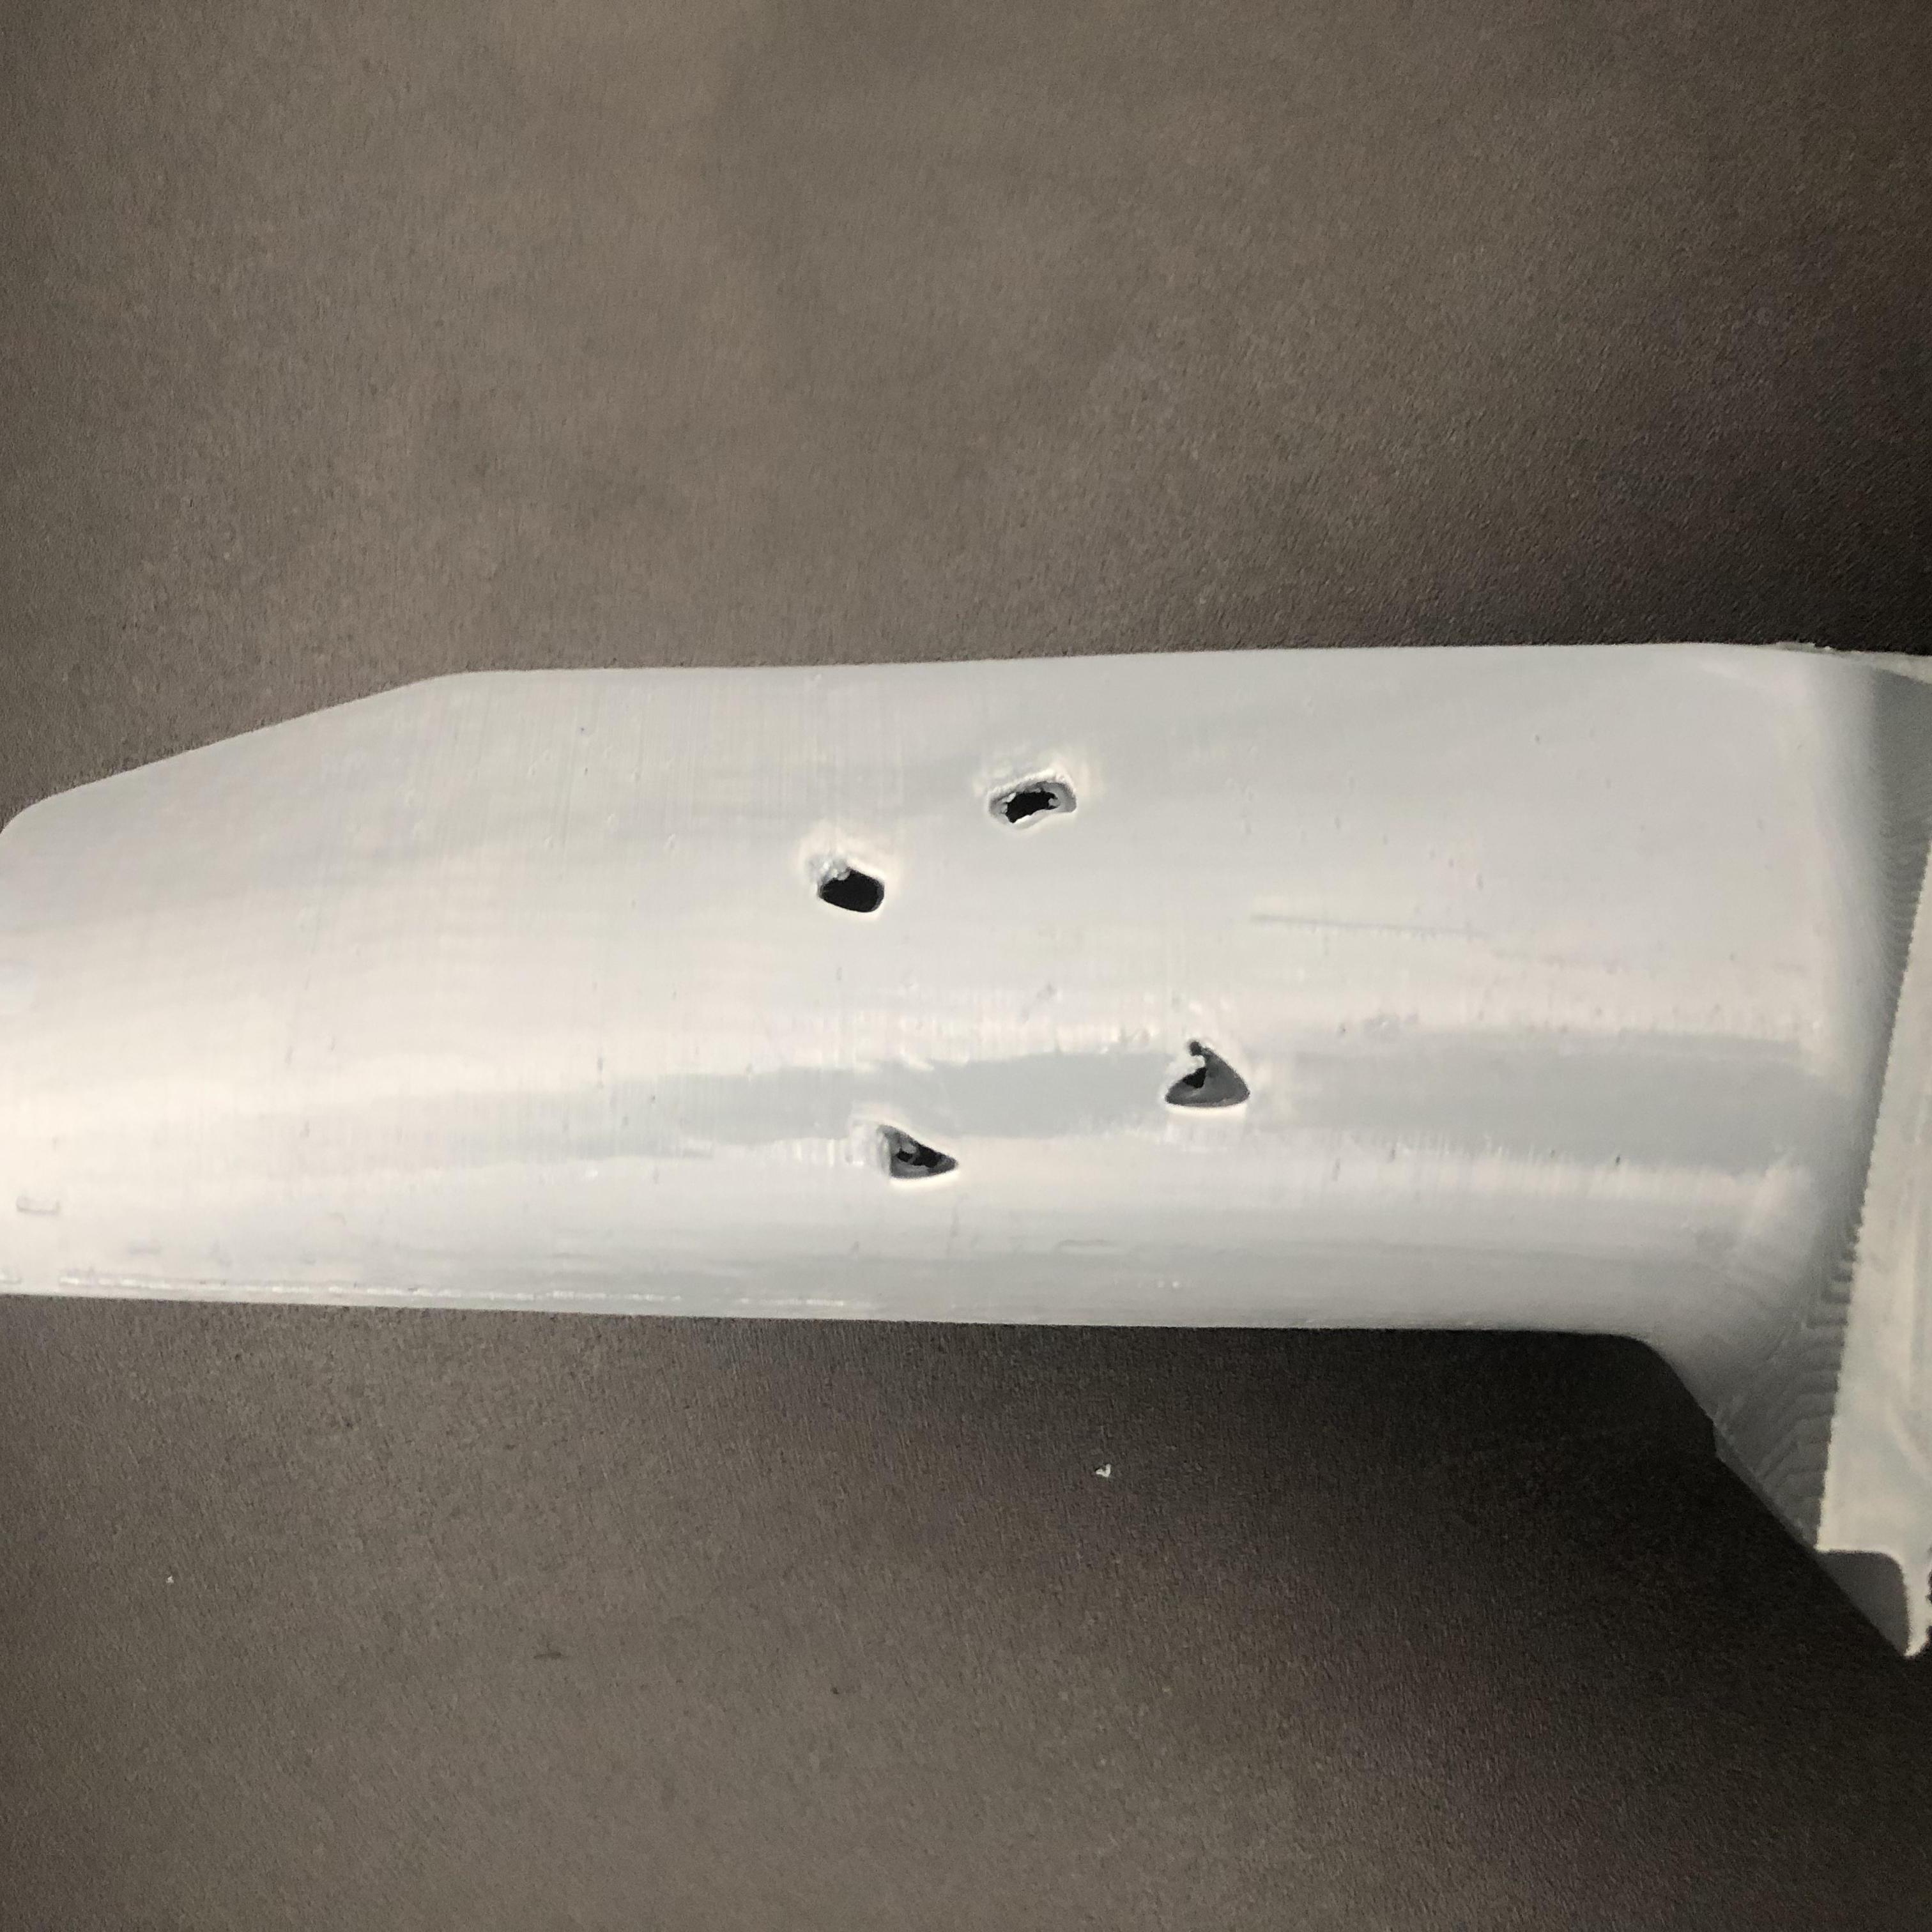breakdown: (800, 777, 1267, 1175)
